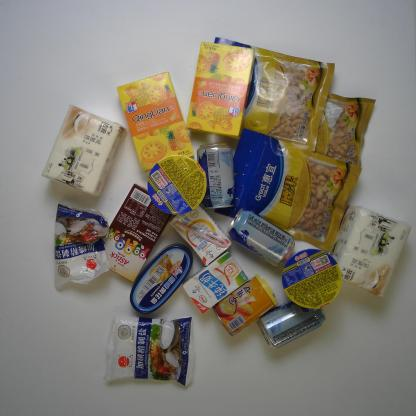Alcohol: (225, 206, 297, 268), (255, 298, 328, 351), (195, 140, 237, 213)
Canned Food: (127, 240, 195, 316), (210, 270, 280, 340)
Dessert: (114, 69, 196, 173), (98, 180, 173, 285), (185, 40, 256, 142)
Dried Fruit: (213, 126, 365, 254), (212, 35, 336, 154), (311, 91, 378, 171)
Instant Noodles: (280, 245, 344, 311), (145, 153, 210, 217)
Milk: (180, 247, 250, 318), (167, 202, 235, 268)
Seasoner: (99, 314, 197, 388), (52, 201, 112, 291)
Tissue: (39, 102, 127, 200), (326, 201, 413, 298)
